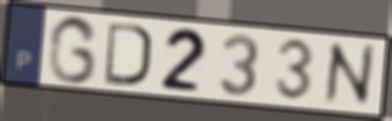2: (156, 25, 212, 97)
3: (273, 36, 318, 104), (217, 31, 262, 99)
D: (103, 19, 154, 89)
G: (45, 13, 101, 86)
N: (322, 40, 377, 108)
